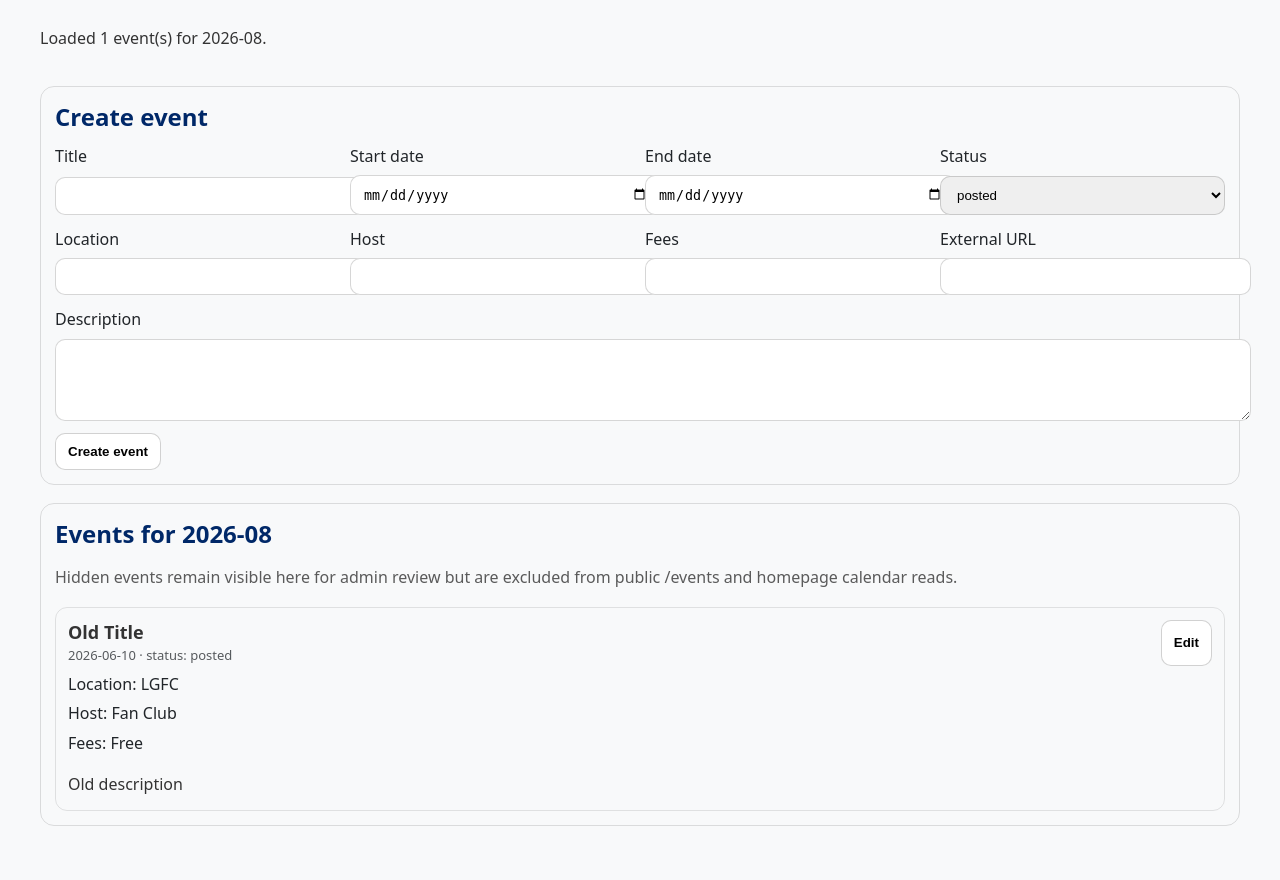
Test case: admin events page › updates a selected event through the admin update API
(page scrolled)
Check: the heading "Old Title" is shown, box [68,620,144,644]
Click the button "Edit": (1186, 643) [1161,620,1212,666]
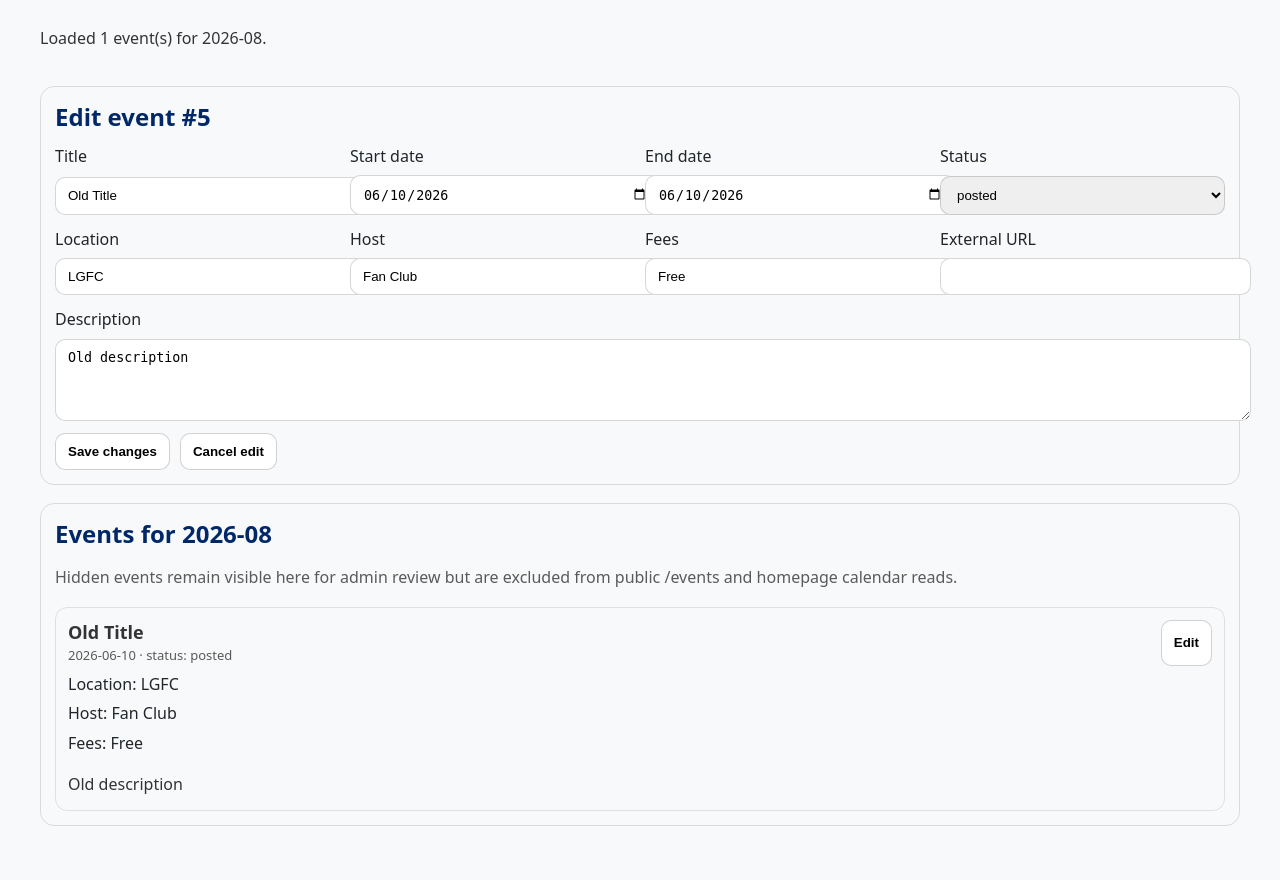
Check: the heading "Edit event #5" is shown, box [55,100,211,133]
Replace the text in the field labelled "Title" with "Updated Title": (210, 196) [55,177,366,215]
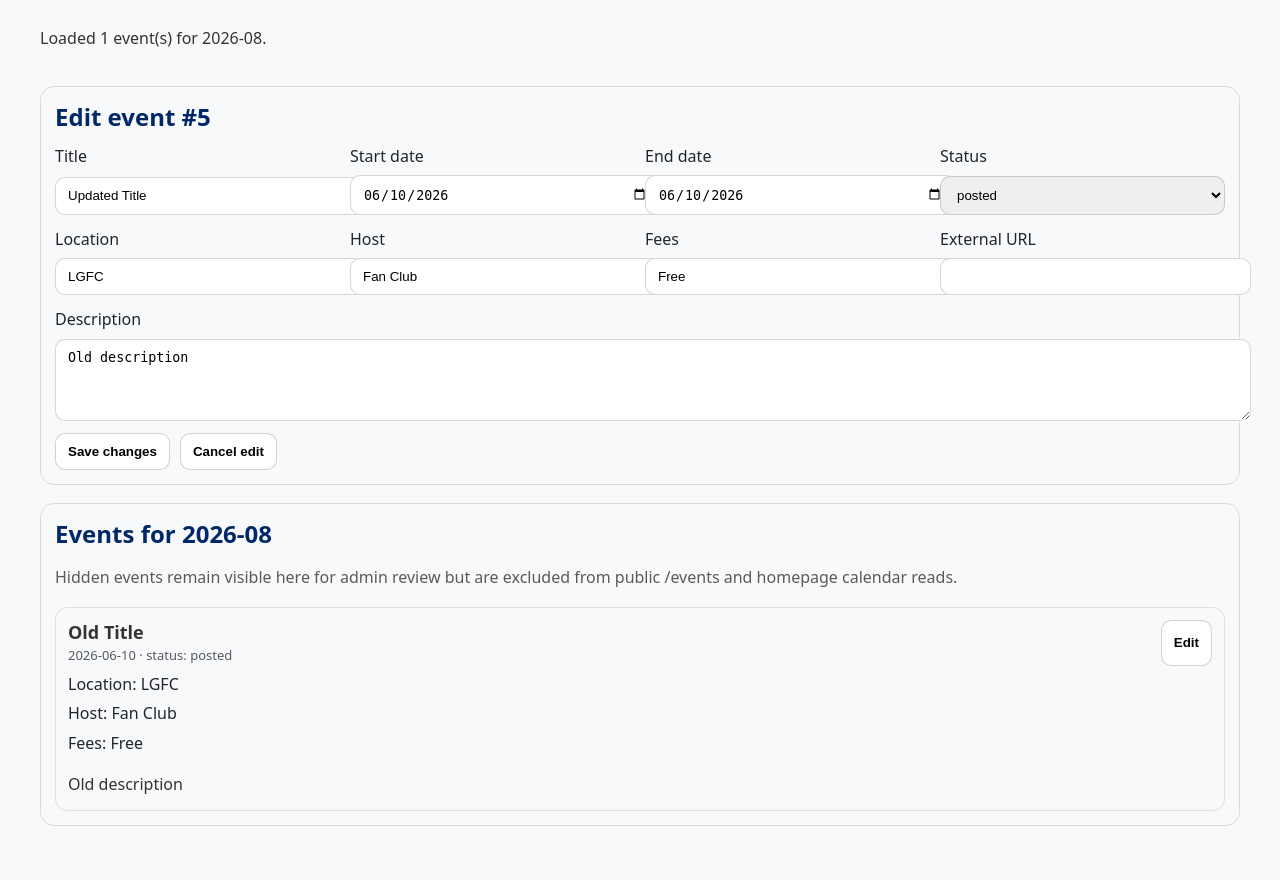
Click the button "Save changes": (112, 451) [55,433,170,470]
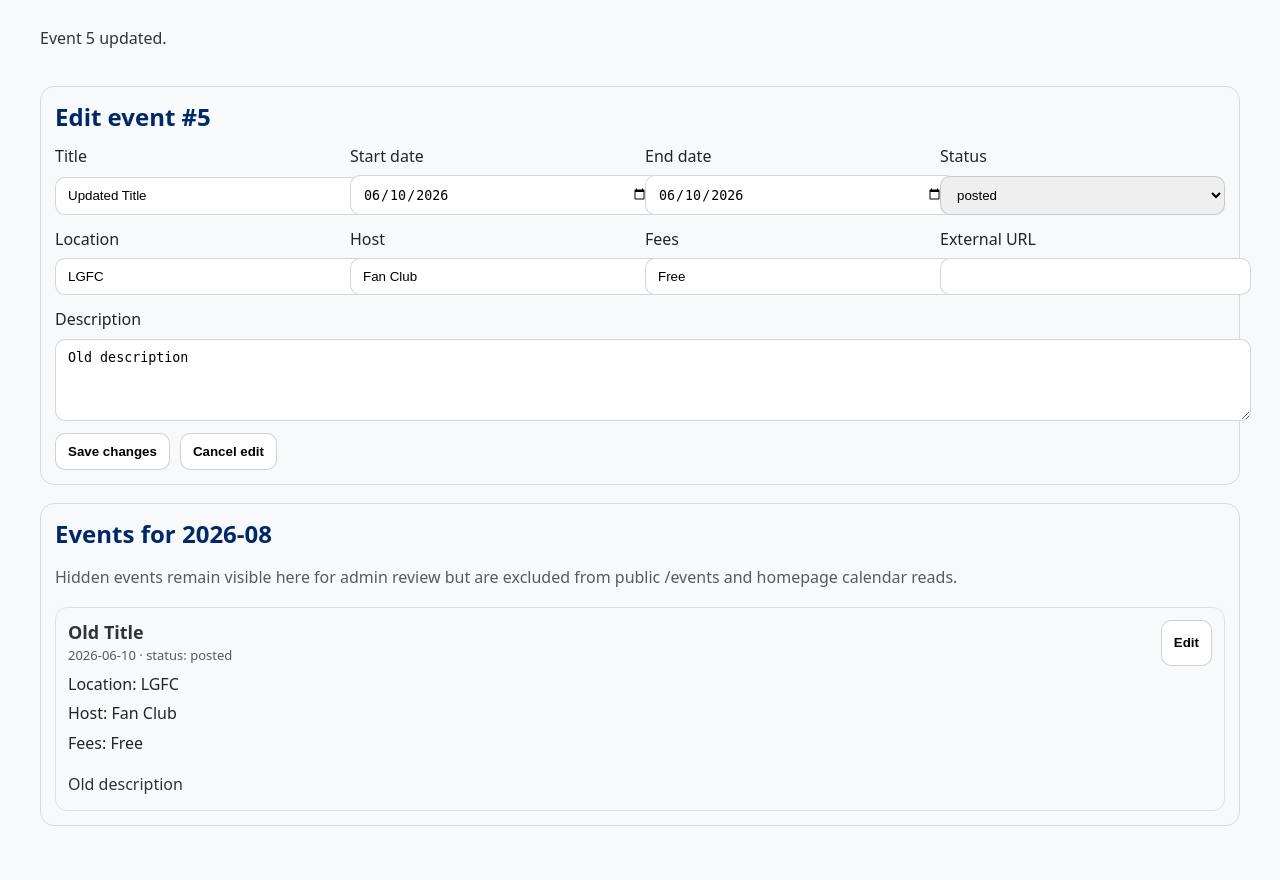
Check: the text "Event 5 updated." is shown, box [40,27,167,49]
